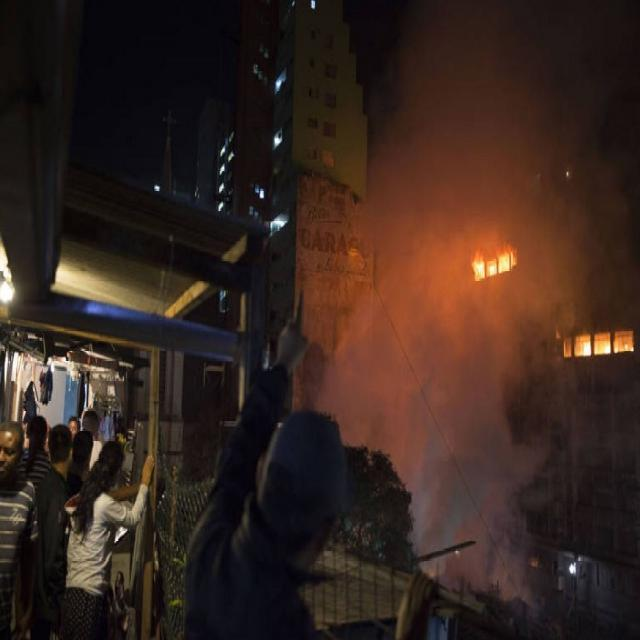Fire: (468, 240, 518, 276)
